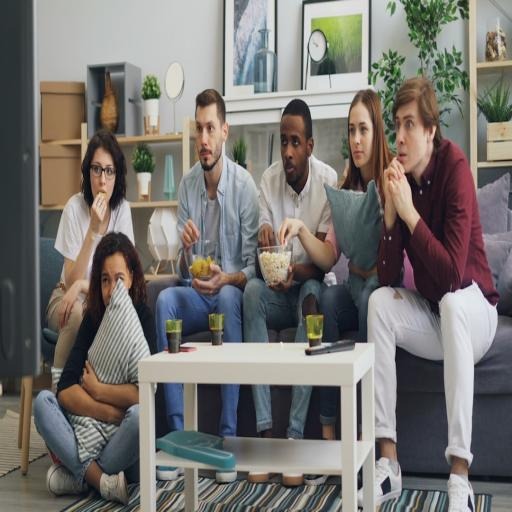face: (395, 102, 435, 175), (281, 115, 312, 193), (196, 104, 228, 171), (349, 102, 373, 179), (101, 252, 132, 307), (90, 169, 116, 202)
